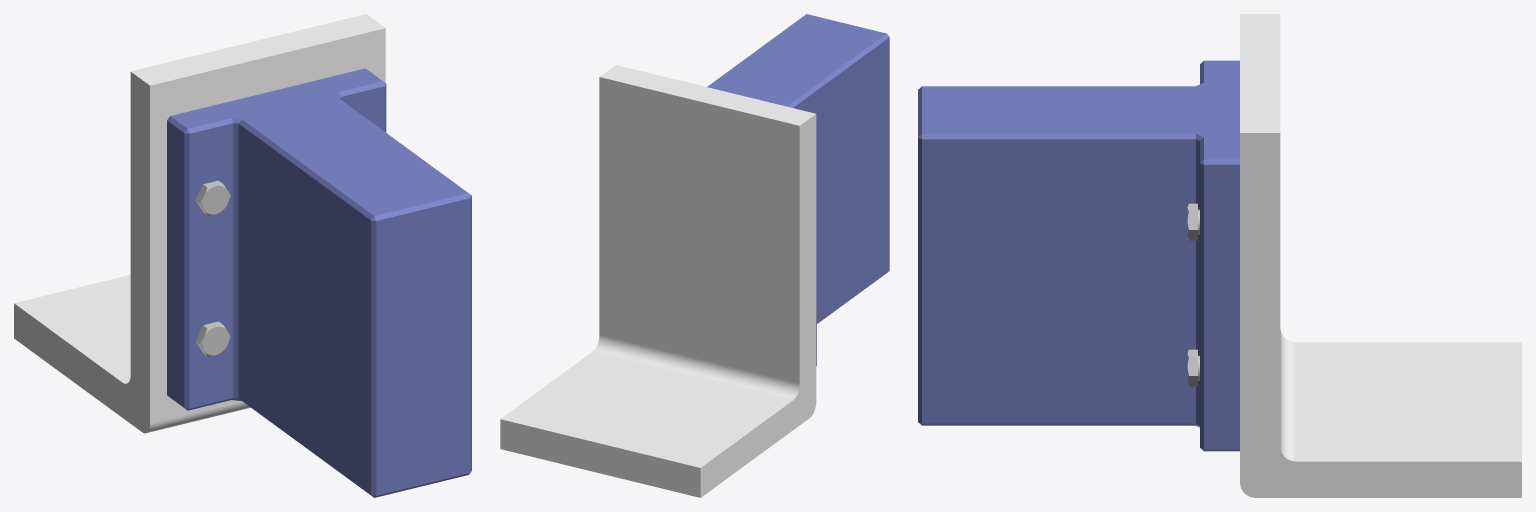
The model's file is Sensor.glb.
3 views of the same model, side by side, from view 1: azimuth 30°, elevation 25°; view 2: azimuth 150°, elevation 25°; view 3: azimuth 270°, elevation 25° (orthographic). The views are drawn at different scales.
Visible parts, largest first — view 1: Body1.001, Body1, Body1.003, Body1.002; view 2: Body1, Body1.001; view 3: Body1.001, Body1.
Boxes of the visible parts, left/top/right/bottom form: Body1.001: left=167, top=68, right=471, bottom=497; Body1: left=14, top=14, right=385, bottom=433; Body1.003: left=195, top=180, right=230, bottom=215; Body1.002: left=195, top=321, right=230, bottom=356; Body1: left=500, top=65, right=816, bottom=497; Body1.001: left=707, top=14, right=889, bottom=365; Body1.001: left=918, top=60, right=1239, bottom=451; Body1: left=1240, top=14, right=1521, bottom=497.
Bounding box in the file's own units: 0.035 × 0.05 × 0.075.
